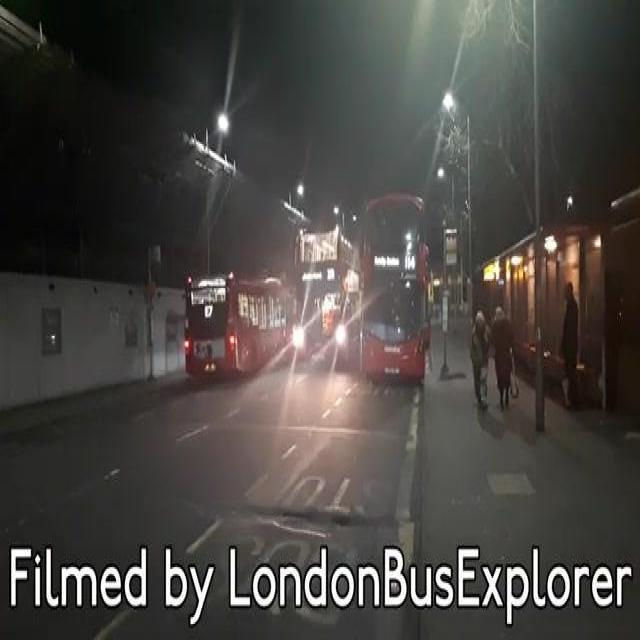motorcycle: (360, 189, 427, 387), (185, 279, 294, 372), (294, 225, 353, 376)
